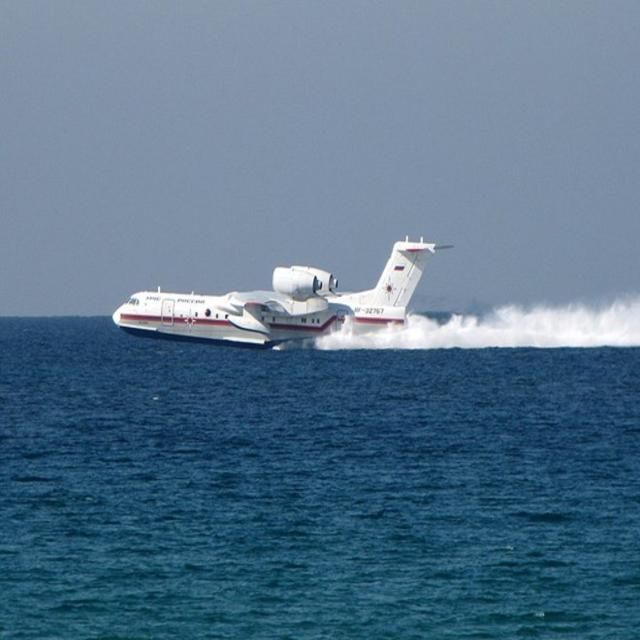MIL_Plane: (242, 209, 325, 324)
